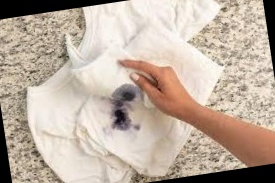ink: (111, 84, 136, 105), (110, 108, 131, 130)
